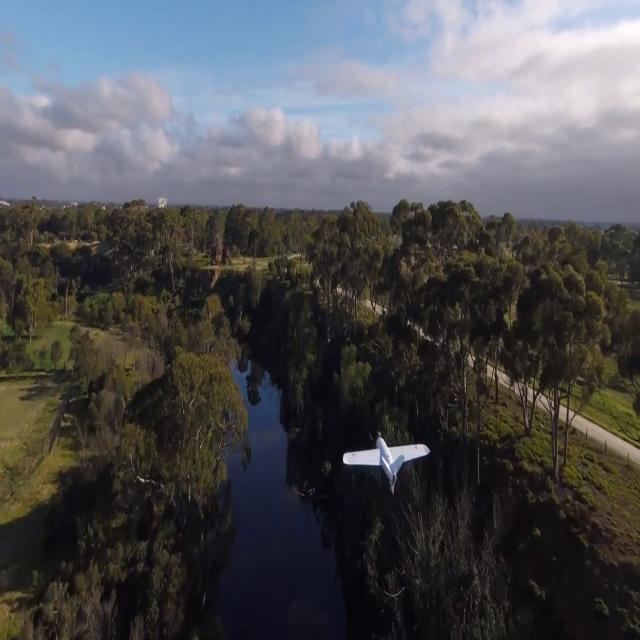iha: (373, 422, 400, 481)
